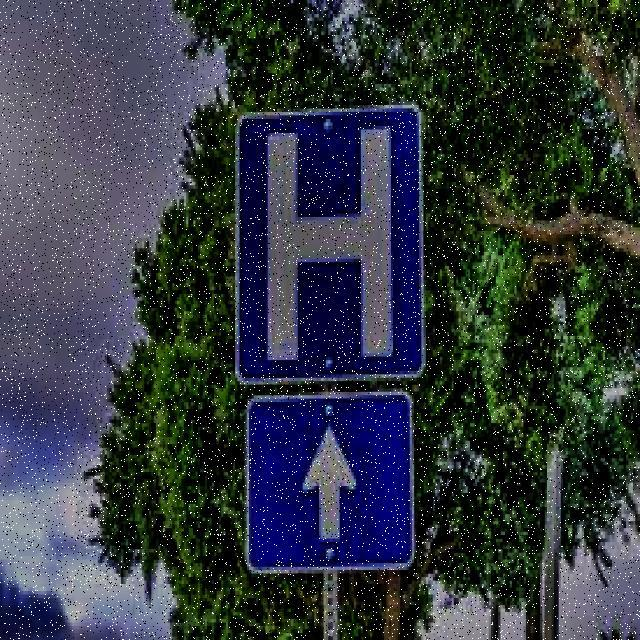Traffic sign: (222, 97, 434, 582)
